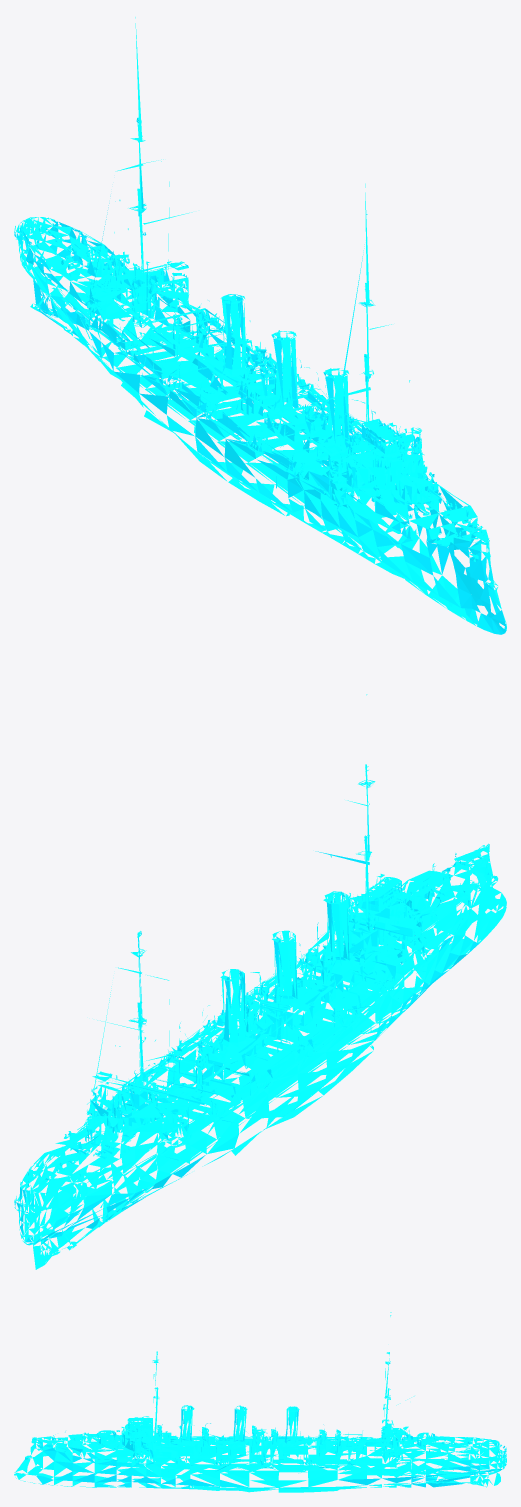
Rendered from PRSC503.glb.
3 views of the same model, one above another, from view 1: azimuth 30°, elevation 25°; view 2: azimuth 150°, elevation 25°; view 3: azimuth 270°, elevation 25° (orthographic). The views are drawn at different scales.
Visible parts, largest first — view 1: hull_mid, hull_bow, hull_stern, main_battery; view 2: hull_mid, hull_stern, hull_bow, main_battery; view 3: hull_mid, hull_bow, hull_stern, main_battery.
Part boxes in pixels (x1,y1,x2,y2): hull_mid: (73,17,427,565); hull_bow: (351,472,506,634); hull_stern: (14,217,156,367); main_battery: (74,241,441,503); hull_mid: (77,694,431,1211); hull_stern: (14,1117,156,1269); hull_bow: (354,843,506,1012); main_battery: (73,876,441,1147); hull_mid: (120,1312,417,1492); hull_bow: (14,1430,133,1487); hull_stern: (403,1435,506,1487); main_battery: (87,1430,449,1463).
Size of the model in its own units: 1.26 by 3.76 by 8.93.
